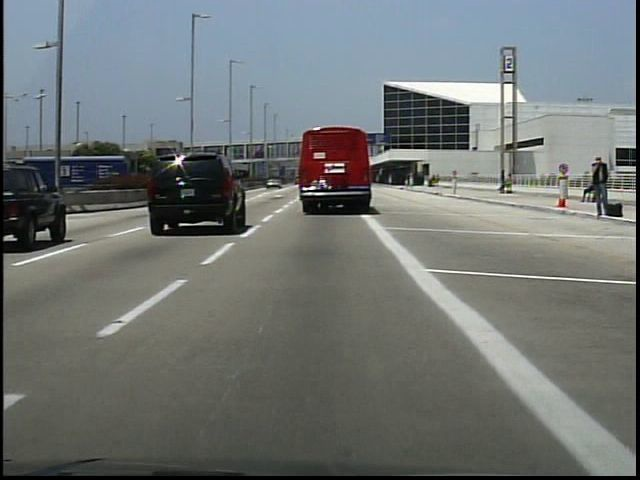person: (587, 151, 614, 221), (577, 170, 602, 206)
